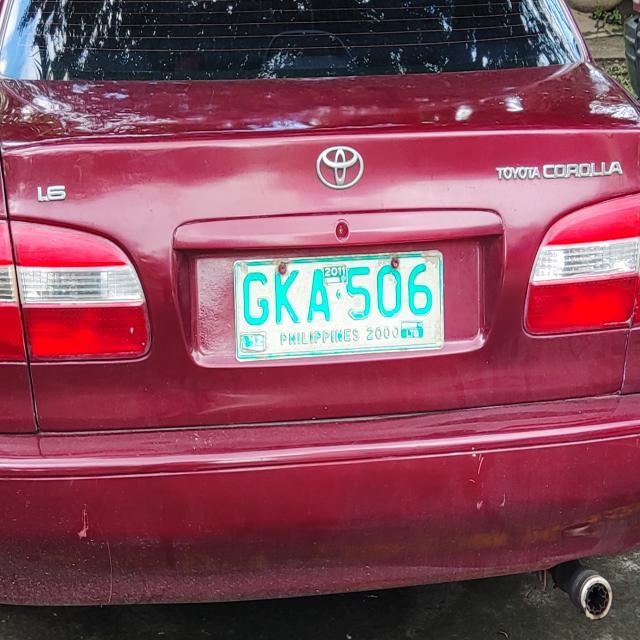LicensePlate: (220, 246, 459, 362)
